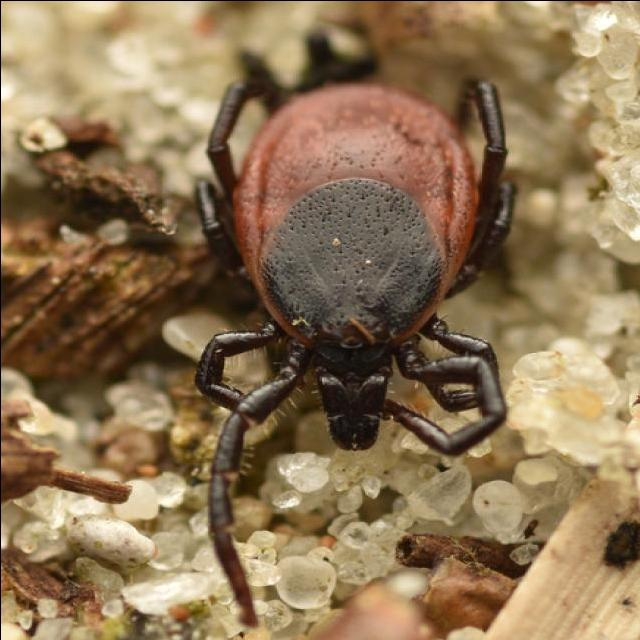Ixodes Ricinus-F: (194, 79, 515, 628)
